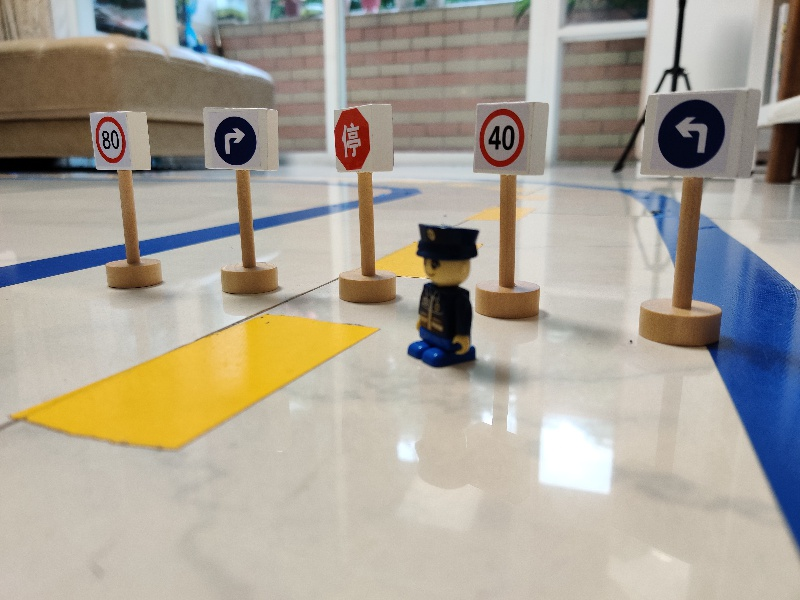limit_40: (471, 99, 551, 179)
limit_80: (84, 108, 155, 173)
person: (401, 221, 484, 372)
stop: (329, 102, 395, 175)
turn_left: (635, 86, 762, 179)
turn_right: (196, 102, 283, 175)
